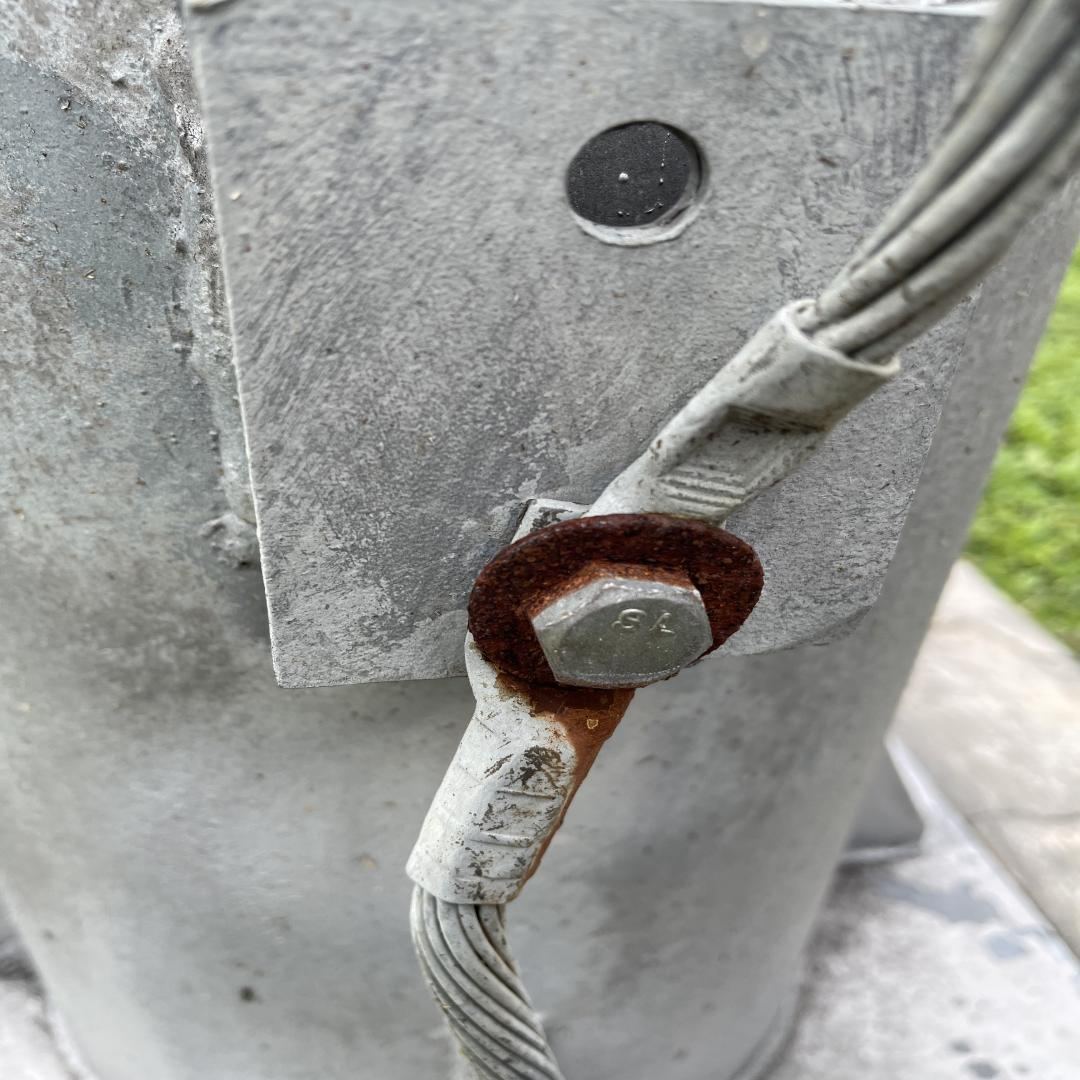Metal corroido: (462, 513, 770, 902)
Tornillo sin corrosion: (533, 580, 714, 680)
